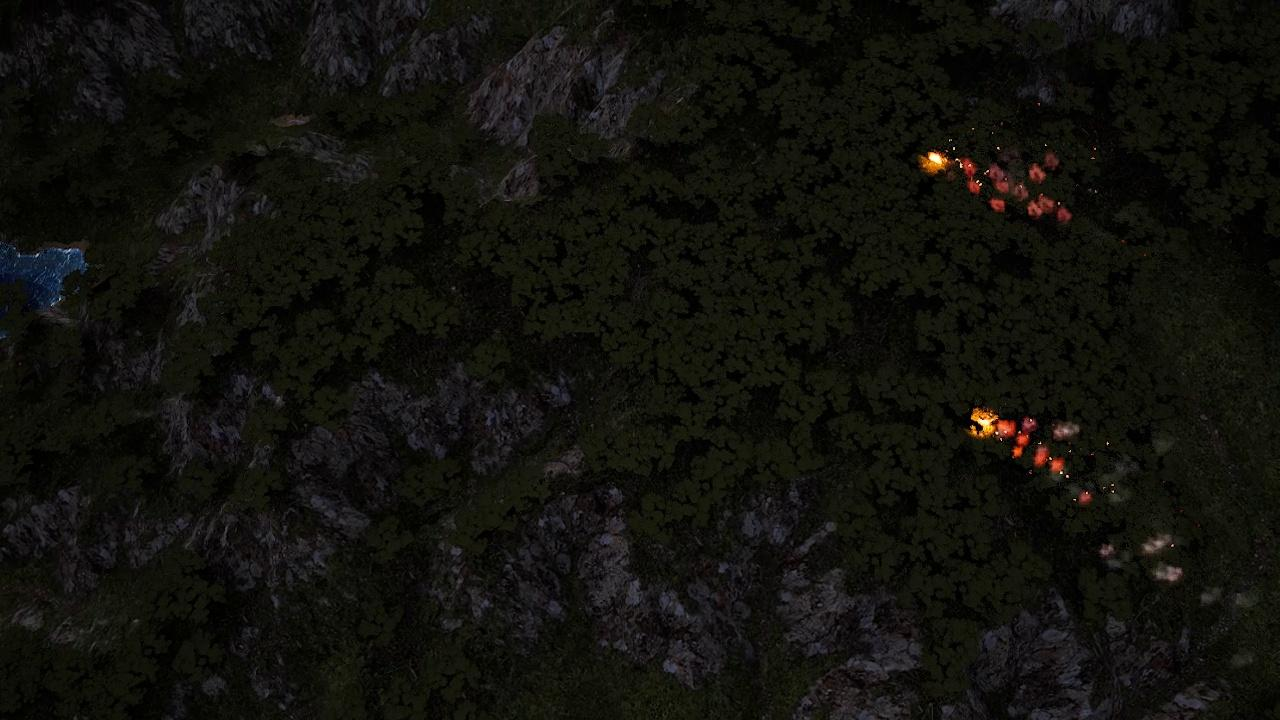fire: (923, 150, 1089, 229), (968, 403, 1064, 472)
